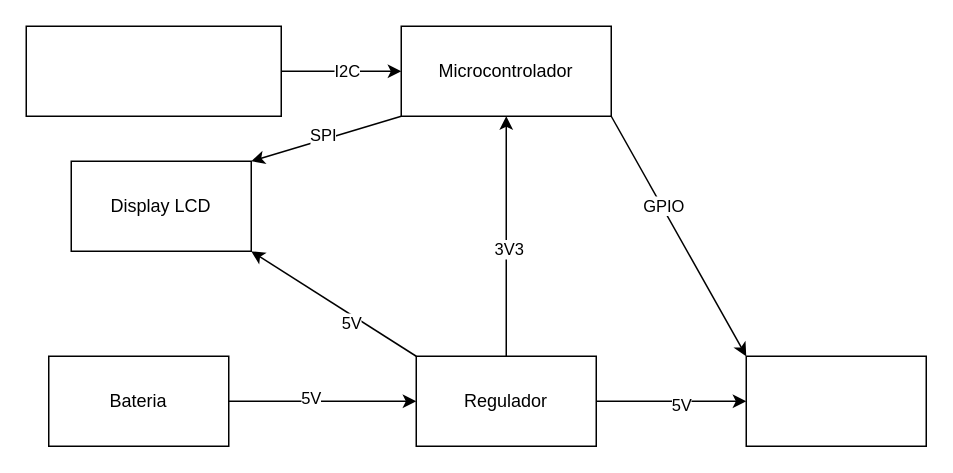
Image size: 953x473. Some labels were removed from this diagram. The box of each missing label's shape, as (x1, y1, x2, y2) in pixels:
Alarme: (745, 355, 926, 446)
Sensor de temperatura: (25, 25, 281, 116)
